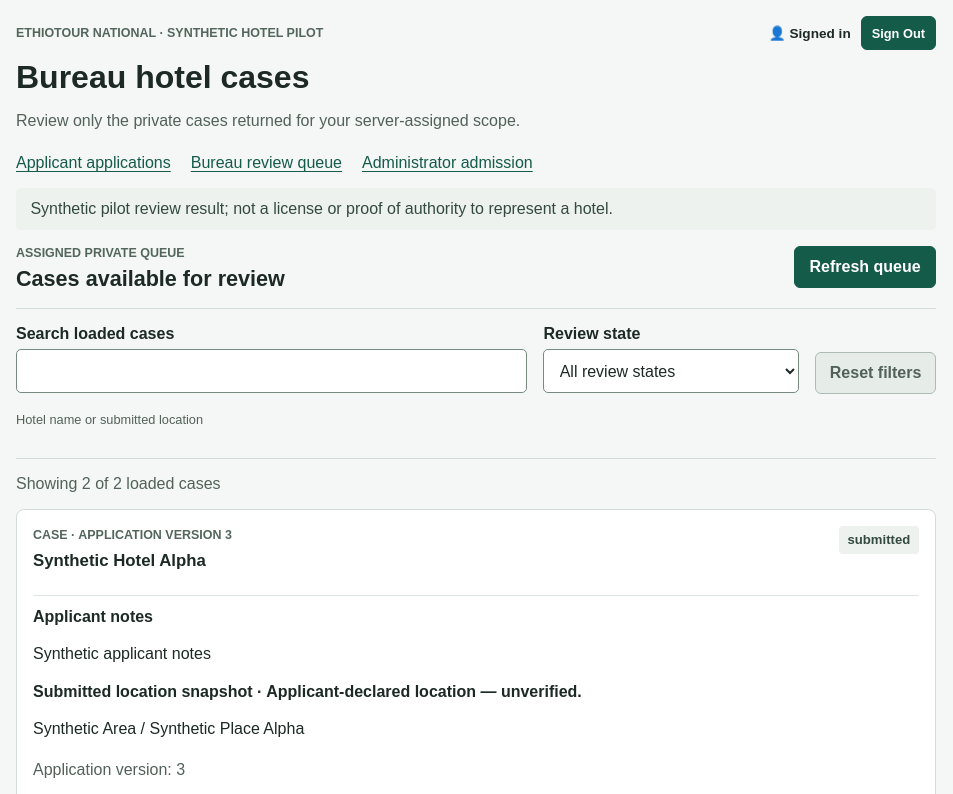
Scenario: Bureau loaded queue presentation › searches returned hotel names and submitted hierarchy, combines state filters, and resets accurate loaded counts
Expected: the text "Showing 2 of 2 loaded cases" is shown, [16,475,221,492]
Type "  HOTEL ALPHA  " into the search field labelled "Search loaded cases" at (272, 371), box [16,349,528,393]
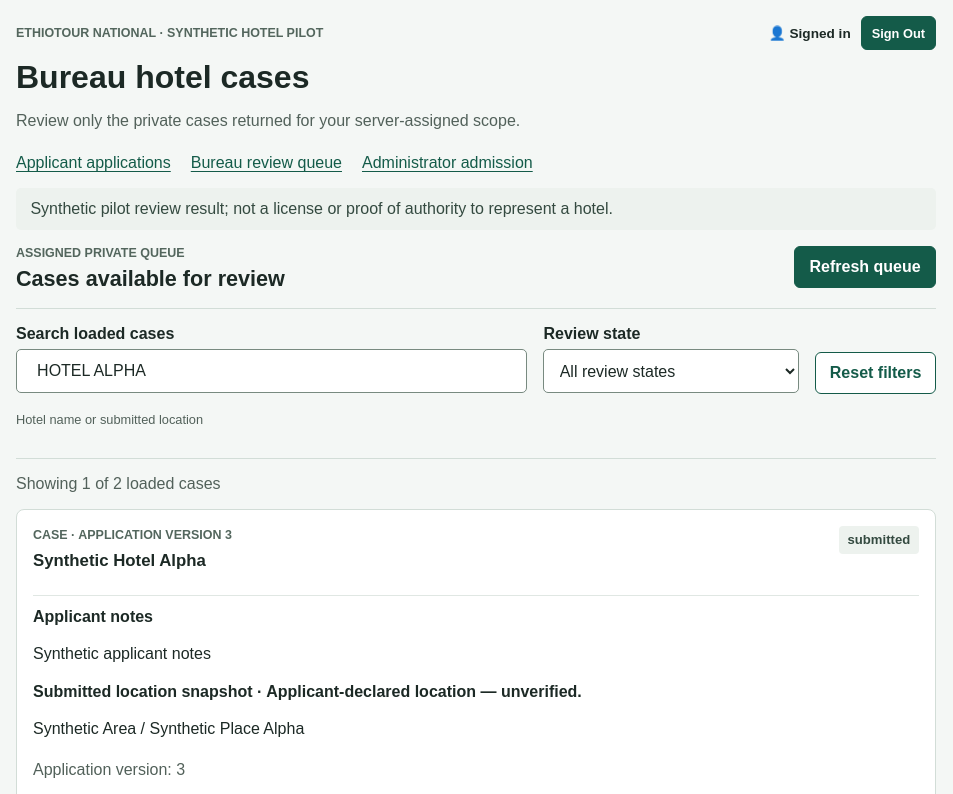
Expected: the text "Showing 1 of 2 loaded cases" is shown, [16,475,221,492]
Replace the text in the search field labelled "Search loaded cases" with "synthetic area" at (272, 371), box [16,349,528,393]
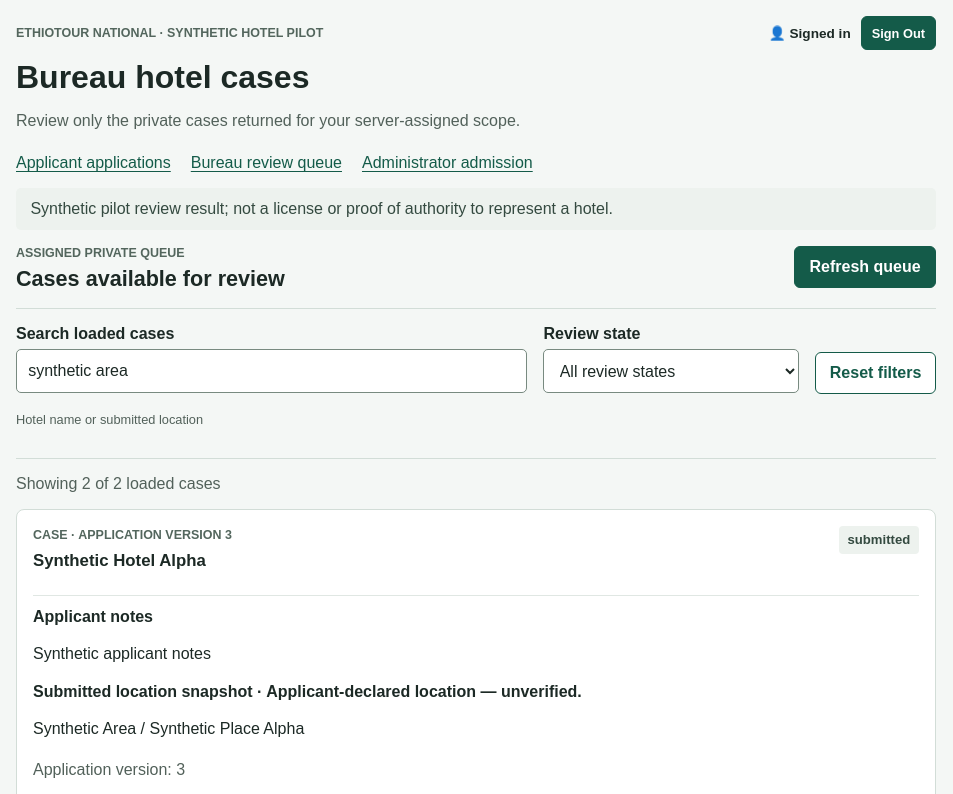
Select "In review" in the dropdown labelled "Review state" at (671, 371), box [544,349,799,393]
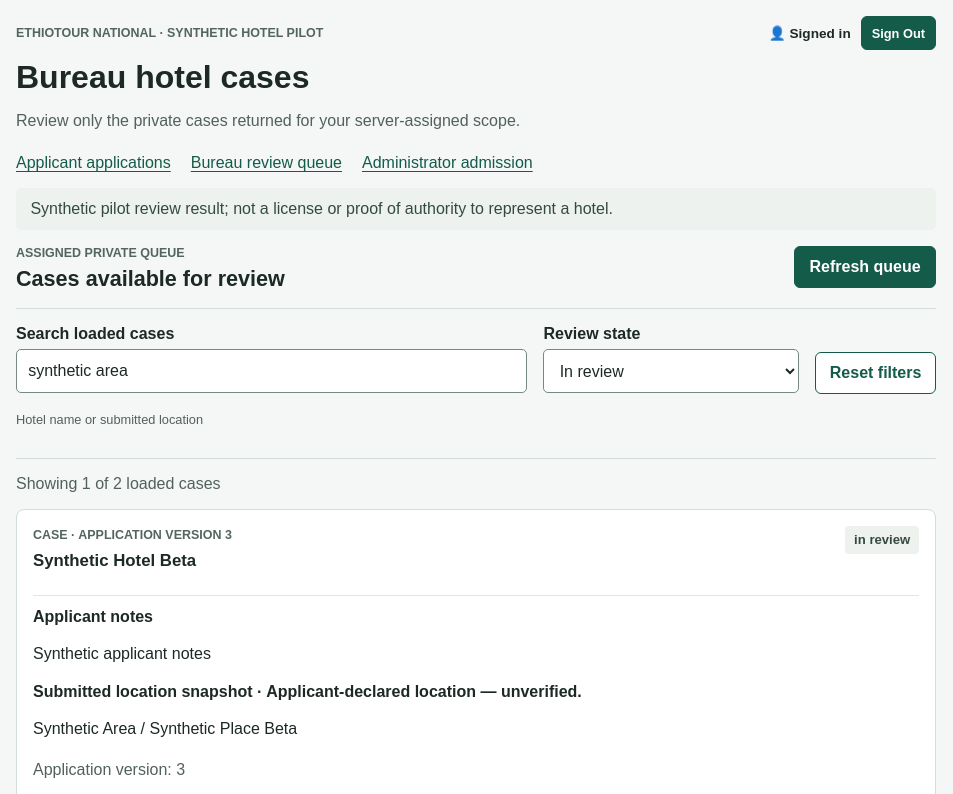
Replace the text in the search field labelled "Search loaded cases" with "Place Alpha" at (272, 371), box [16,349,528,393]
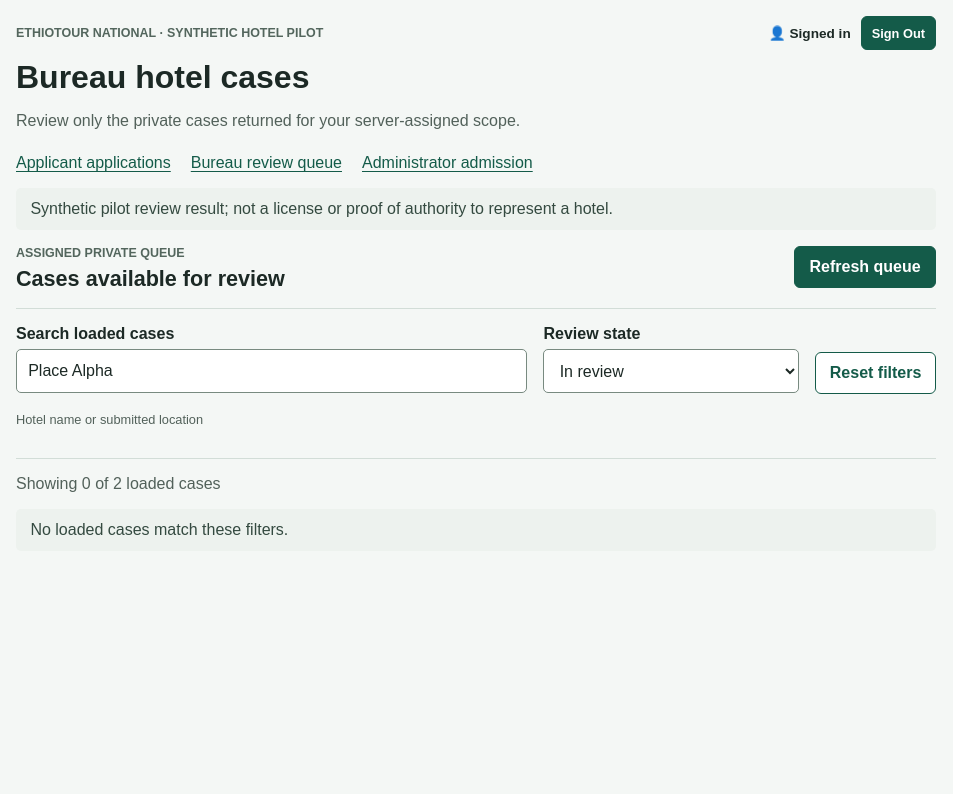
Expected: the text "No loaded cases match these filters." is shown, [16,509,936,551]
Expected: the text "Showing 0 of 2 loaded cases" is shown, [16,475,221,492]
Click the button "Reset filters" at (876, 373), box [815,352,936,394]
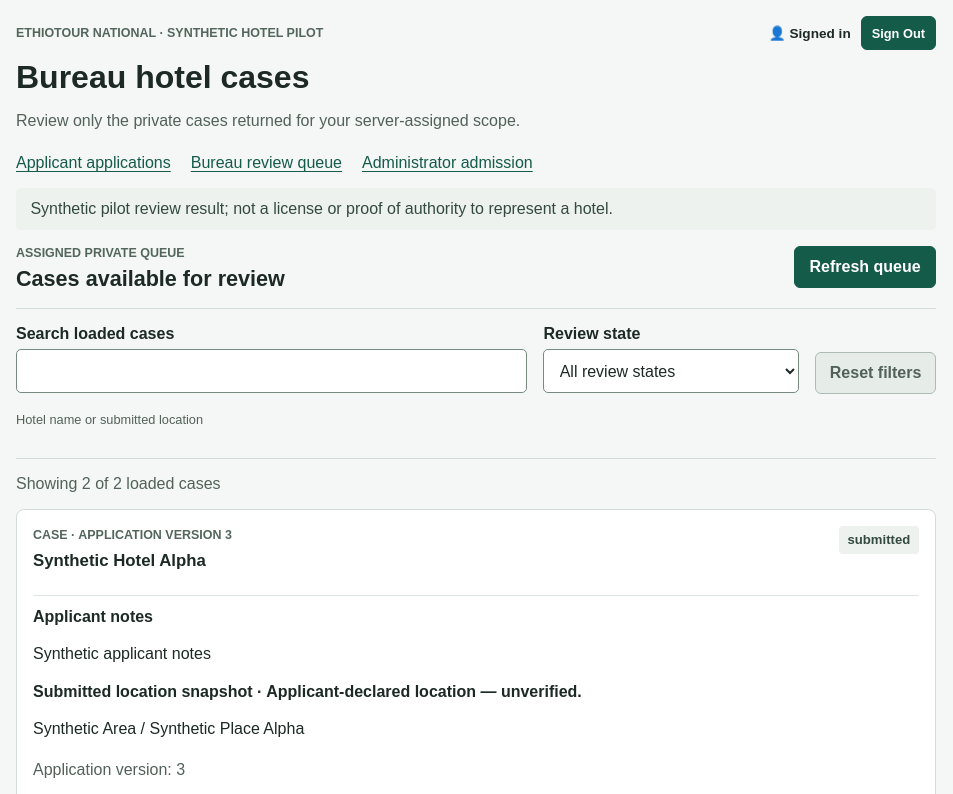
Expected: the text "Showing 2 of 2 loaded cases" is shown, [16,475,221,492]
